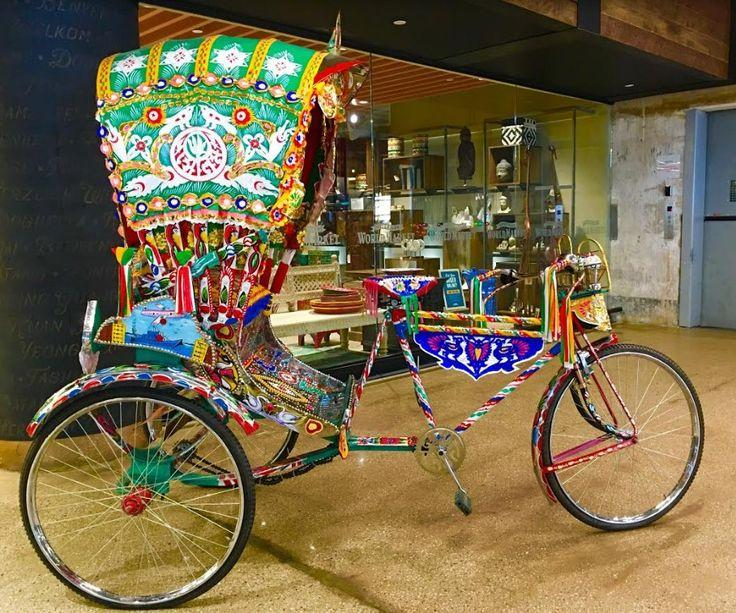Rickshaw: (3, 18, 714, 611)
